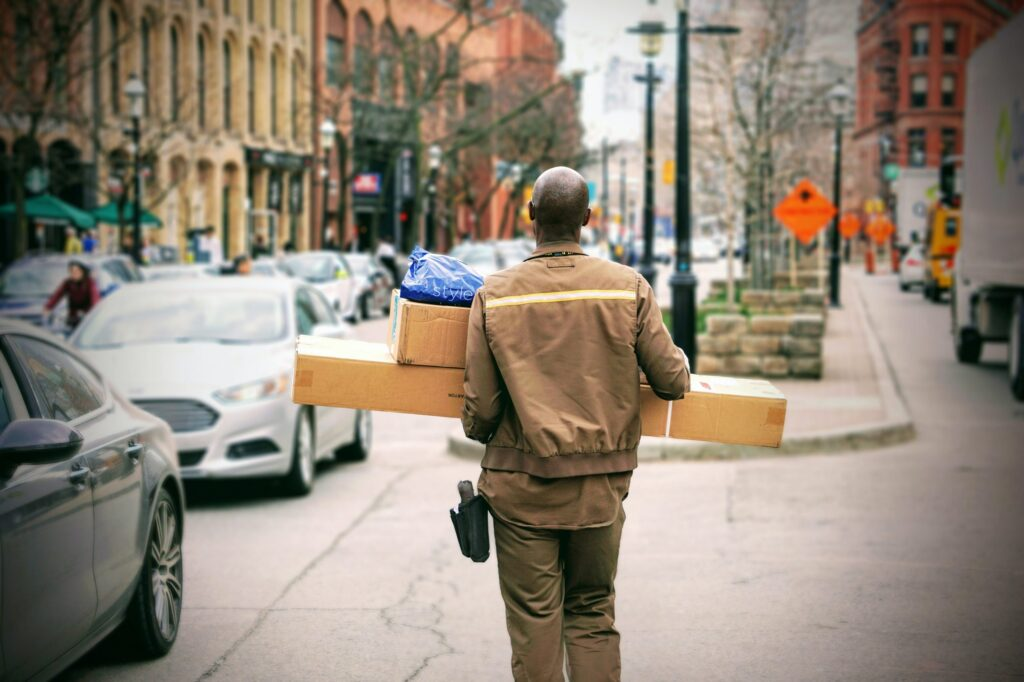Car: (60, 256, 383, 492), (9, 320, 199, 677)
DeliveryBox: (273, 289, 796, 451)
Person: (457, 168, 676, 682)
